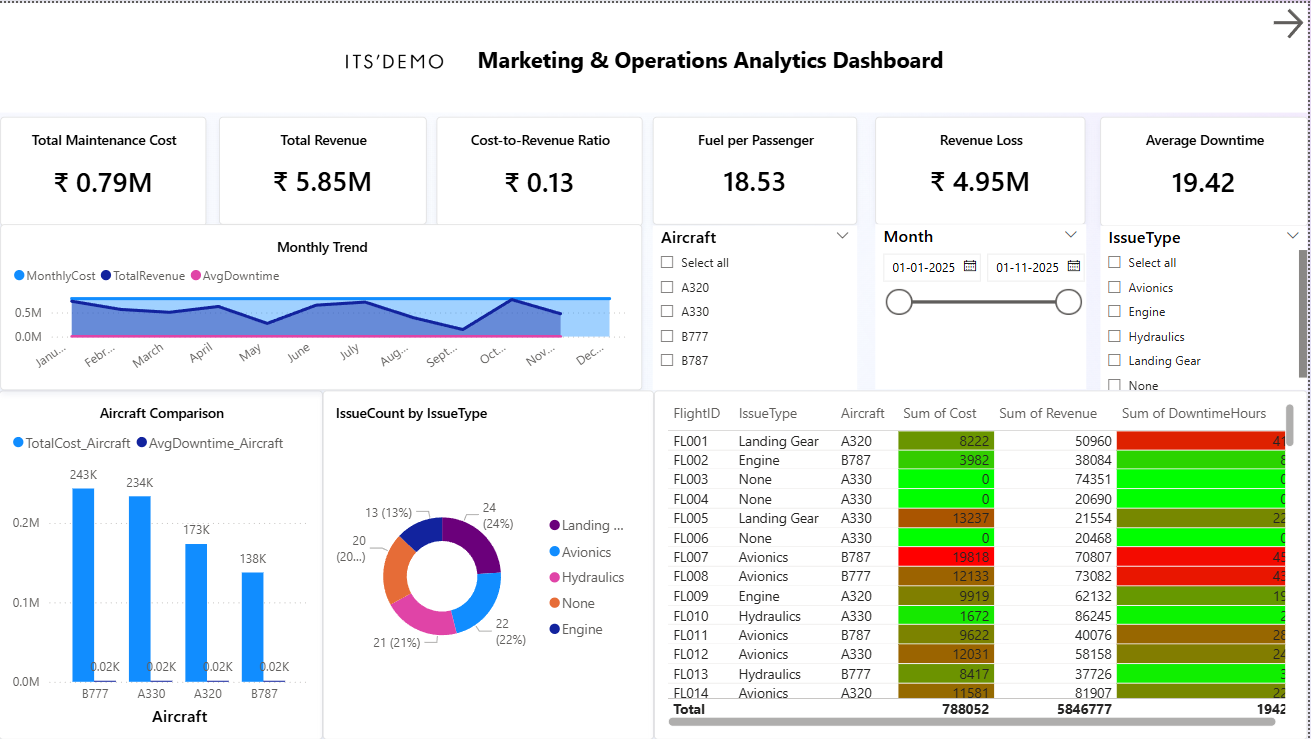

Layout of this report page (visuals, bound fields, positions):
{"tool":"powerbi","page":{"name":"Dashboard","canvas":[1280,720],"ordinal":0},"visuals":[{"type":"textbox","box":[0,0,1280.3,107],"z":0},{"type":"image","box":[317,4.1,141.3,107],"z":1},{"type":"card","title":"Total Revenue","fields":{"Values":["maintenance_operations_data.TotalRevenue"]},"box":[215.4,111.1,203.1,105.7],"z":2},{"type":"card","title":"Total Maintenance Cost","fields":{"Values":["maintenance_operations_data.TotalCost"]},"box":[1.4,111.1,201.7,107],"z":4},{"type":"card","title":"Revenue Loss","fields":{"Values":["maintenance_operations_data.RevenueLossDueToDowntime"]},"box":[857.6,111.1,205.8,105.7],"z":5},{"type":"card","title":"Fuel per Passenger","fields":{"Values":["maintenance_operations_data.FuelEfficiencyPerPassenger"]},"box":[639.5,111.1,200.3,105.7],"z":8},{"type":"card","title":"Cost-to-Revenue Ratio","fields":{"Values":["maintenance_operations_data.CostToRevenue"]},"box":[428.1,111.1,201.7,107],"z":9},{"type":"card","title":"Average Downtime","fields":{"Values":["maintenance_operations_data.AvgDowntime"]},"box":[1077.2,111.1,203.1,107],"z":11},{"type":"clusteredColumnChart","title":"Aircraft Comparison","fields":{"Category":["maintenance_operations_data.Aircraft"],"Y":["maintenance_operations_data.TotalCost_Aircraft","maintenance_operations_data.AvgDowntime_Aircraft"]},"box":[0,378.7,317,341.7],"z":12},{"type":"lineChart","title":"Monthly Trend","fields":{"Y":["maintenance_operations_data.MonthlyCost","maintenance_operations_data.TotalRevenue","maintenance_operations_data.AvgDowntime"],"Category":["maintenance_operations_data.Month.Variation.Date Hierarchy.Year","maintenance_operations_data.Month.Variation.Date Hierarchy.Quarter","maintenance_operations_data.Month.Variation.Date Hierarchy.Month","maintenance_operations_data.Month.Variation.Date Hierarchy.Day"]},"box":[1.4,216.4,628.4,162.3],"z":13},{"type":"donutChart","fields":{"Category":["maintenance_operations_data.IssueType"],"Y":["maintenance_operations_data.IssueCount"]},"box":[317,378.7,323.8,341.7],"z":14},{"type":"tableEx","fields":{"Values":["maintenance_operations_data.FlightID","maintenance_operations_data.IssueType","maintenance_operations_data.Aircraft","Sum(maintenance_operations_data.Cost)","Sum(maintenance_operations_data.Revenue)","Sum(maintenance_operations_data.DowntimeHours)"]},"box":[640.8,378.7,639.5,341.7],"z":15},{"type":"slicer","fields":{"Values":["maintenance_operations_data.Aircraft"]},"box":[639.4,217.8,199.7,160.9],"z":16},{"type":"slicer","fields":{"Values":["maintenance_operations_data.Month"]},"box":[857.2,216.4,205.3,160.9],"z":17},{"type":"slicer","fields":{"Values":["maintenance_operations_data.IssueType"]},"box":[1077.8,217.8,202.5,160.9],"z":18},{"type":"actionButton","box":[1241.4,0,38.8,40.2],"z":19}]}

Visuals, with their boxes in screenshot pixels (x1, y1, x2, y2), scaled from the page's 1280x720 canvas onto the 1311x739 screenshot:
textbox: <region>0, 0, 1310, 110</region>
image: <region>325, 4, 469, 114</region>
"Total Revenue" card: <region>221, 114, 429, 223</region>
"Total Maintenance Cost" card: <region>1, 114, 208, 224</region>
"Revenue Loss" card: <region>878, 114, 1089, 223</region>
"Fuel per Passenger" card: <region>655, 114, 860, 223</region>
"Cost-to-Revenue Ratio" card: <region>438, 114, 645, 224</region>
"Average Downtime" card: <region>1103, 114, 1310, 224</region>
"Aircraft Comparison" clusteredColumnChart: <region>0, 389, 325, 738</region>
"Monthly Trend" lineChart: <region>1, 222, 645, 389</region>
donutChart - maintenance_operations_data.IssueType x maintenance_operations_data.IssueCount: <region>325, 389, 656, 738</region>
tableEx - maintenance_operations_data.FlightID x maintenance_operations_data.IssueType: <region>656, 389, 1310, 738</region>
slicer - maintenance_operations_data.Aircraft: <region>655, 224, 859, 389</region>
slicer - maintenance_operations_data.Month: <region>878, 222, 1088, 387</region>
slicer - maintenance_operations_data.IssueType: <region>1104, 224, 1310, 389</region>
actionButton: <region>1271, 0, 1310, 41</region>
